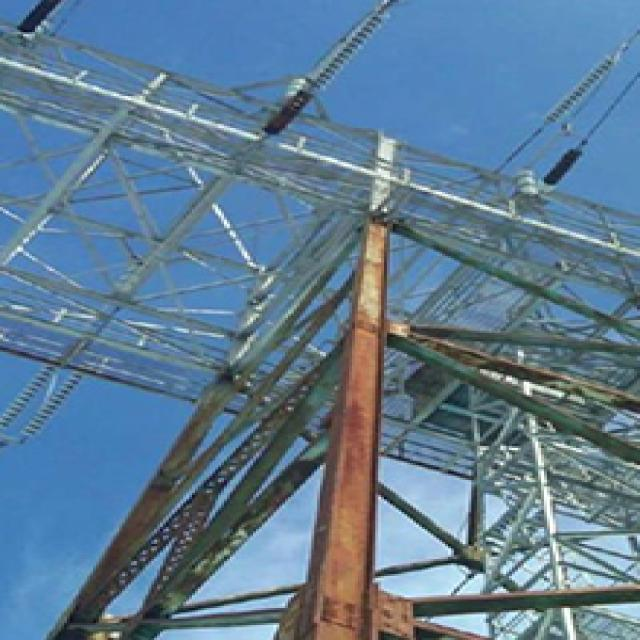damaged_tower: (307, 217, 398, 640)
